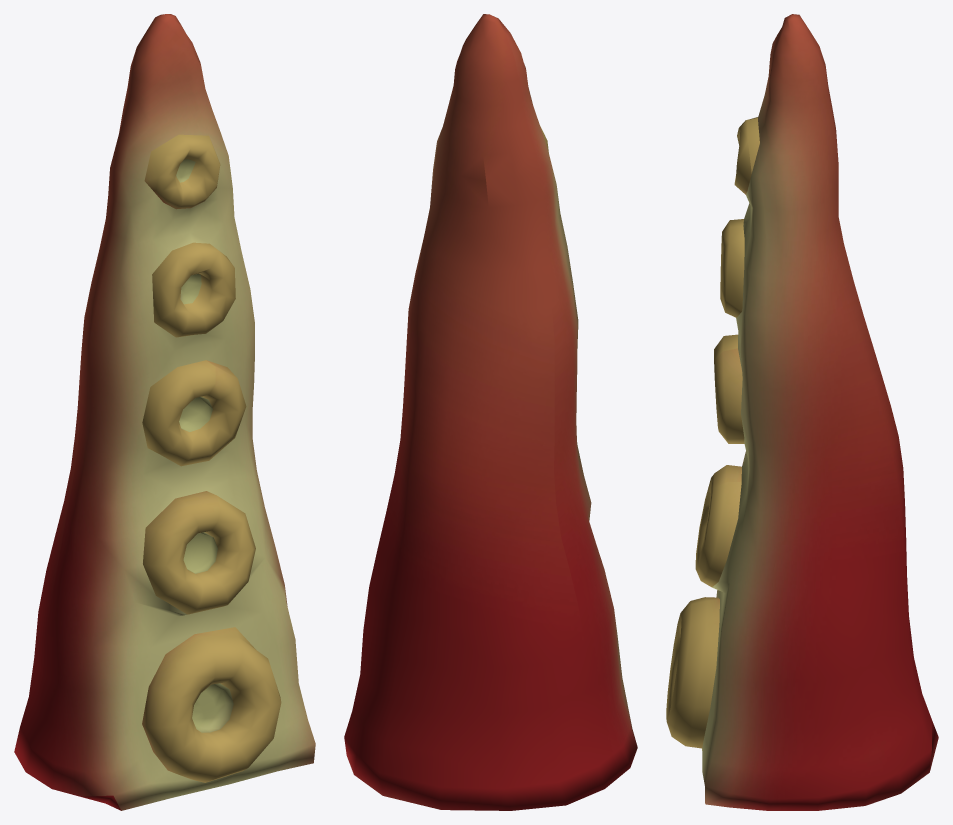
The model's file is RedTenacle.fbx.
3 views of the same model, side by side, from view 1: azimuth 30°, elevation 25°; view 2: azimuth 150°, elevation 25°; view 3: azimuth 270°, elevation 25° (orthographic).
Parts seen in each view (by area): view 1: tentacles; view 2: tentacles; view 3: tentacles.
Part boxes in pixels (<box>): tentacles: <box>14,14,315,810</box>; tentacles: <box>344,14,637,810</box>; tentacles: <box>666,14,938,810</box>.
Size of the model in its own units: 1.75 by 4.91 by 1.64.
1 material, 1 textured.
